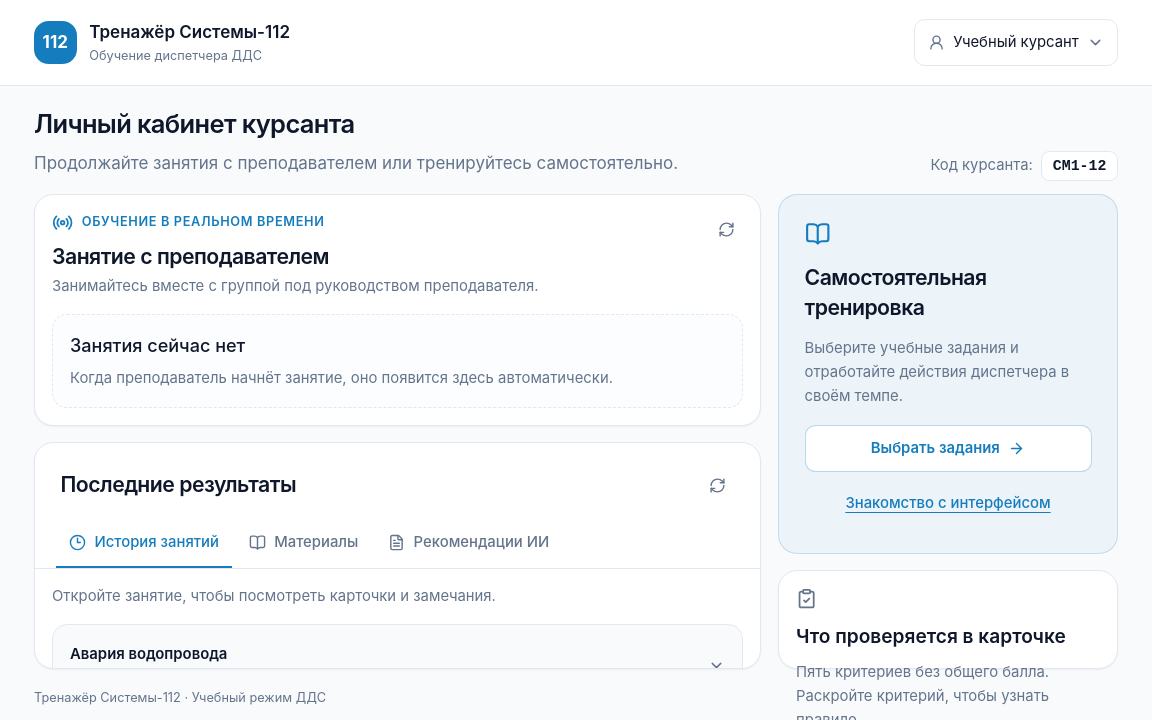
Scenario: keeps incomplete cards and unavailable results neutral
Click the heading "Авария водопровода" at point(149, 654), box [70,645,227,663]
(page scrolled)
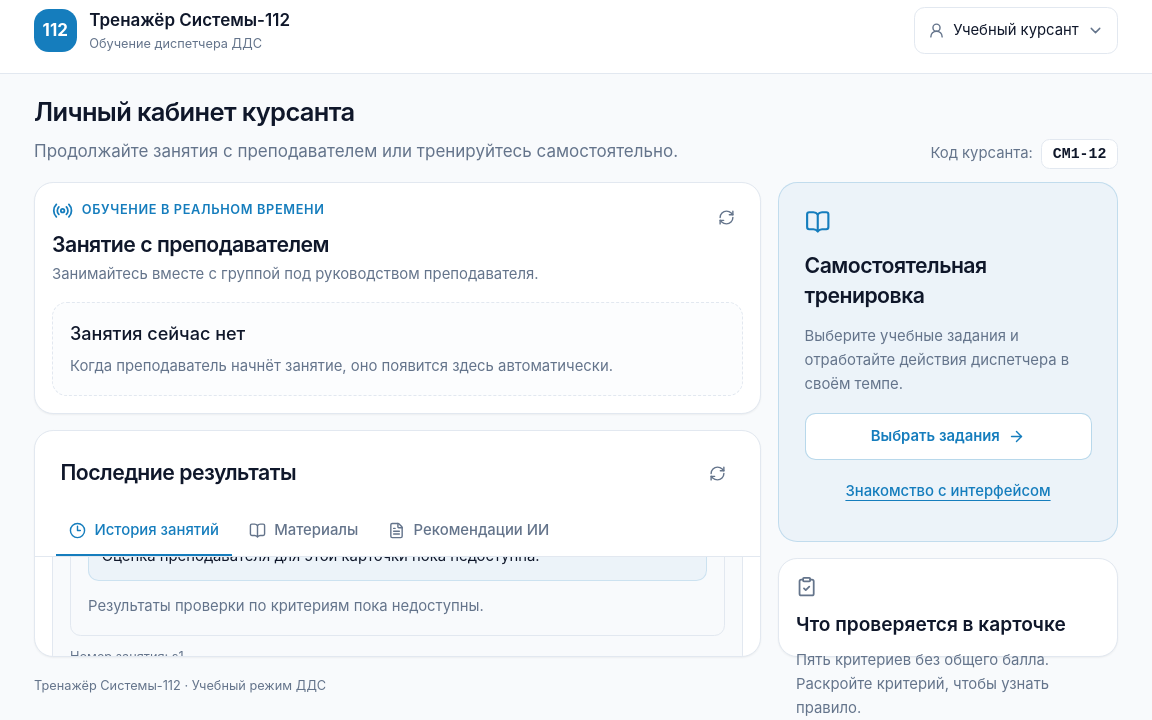
Now the text "Результаты проверки по критериям пока недоступны." is shown, box [88,597,484,615]
